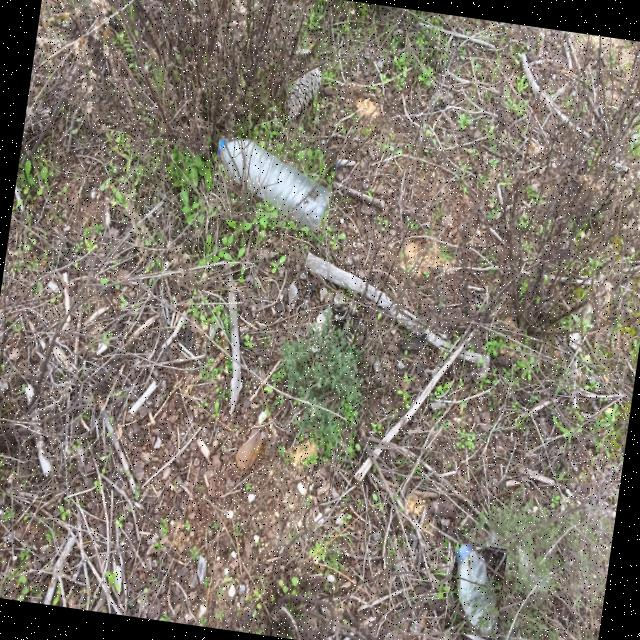Clear plastic bottle: (217, 138, 332, 232), (455, 544, 498, 636)
